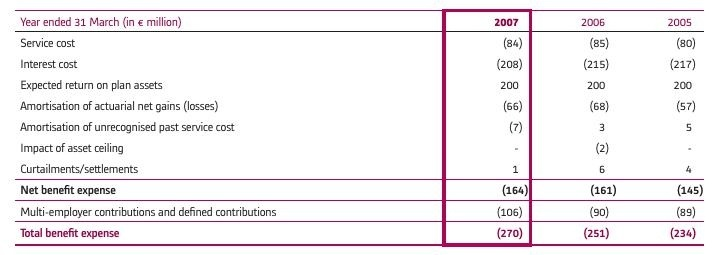table: (0, 0, 719, 255)
